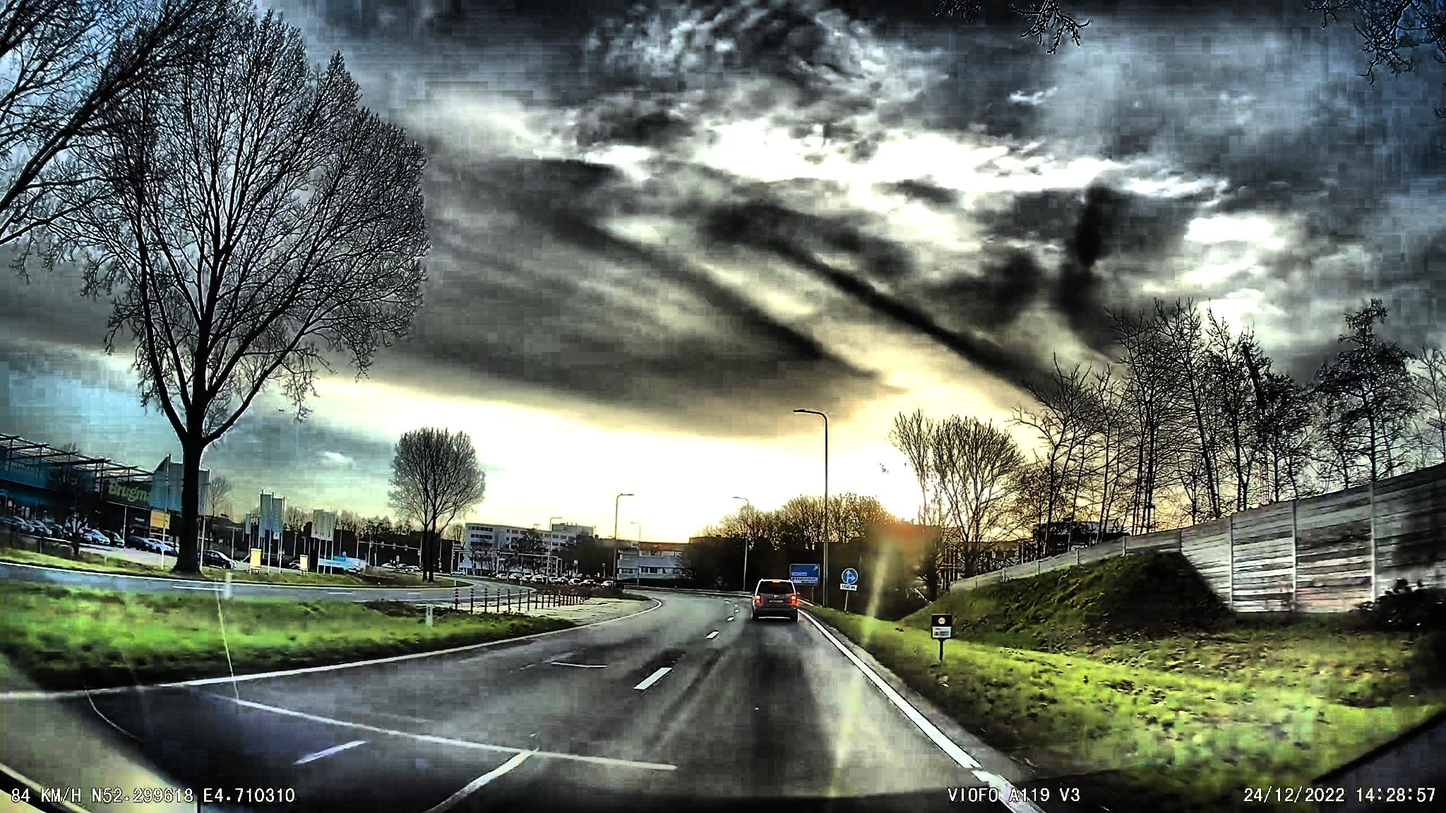Roads: (0, 598, 1023, 813)
